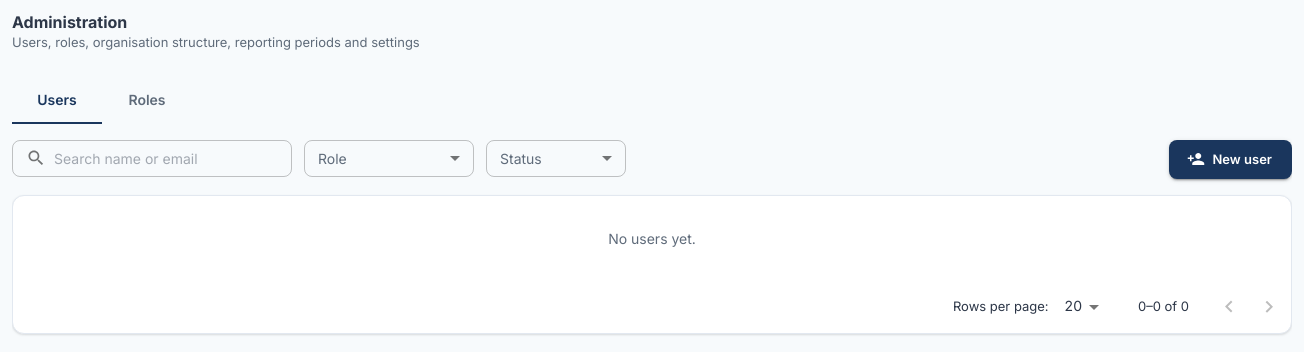
Test case: AdminPage › search waits for a pause in typing: one request, not one per keystroke
This screenshot has width=1304, height=352.
Type "ngozi" into the field with placeholder "Search name or email" at (173, 158), box [54, 140, 292, 177]
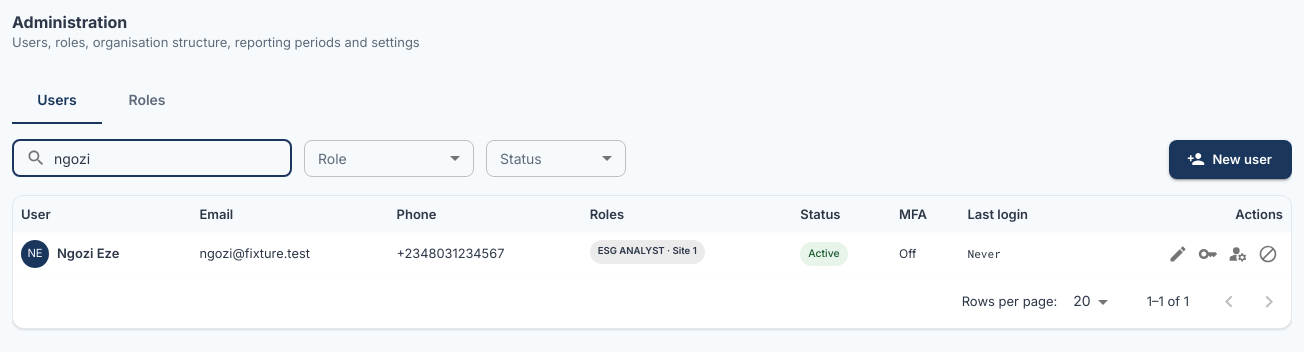
Expected: the text "Ngozi Eze" is shown, [57, 244, 119, 263]
